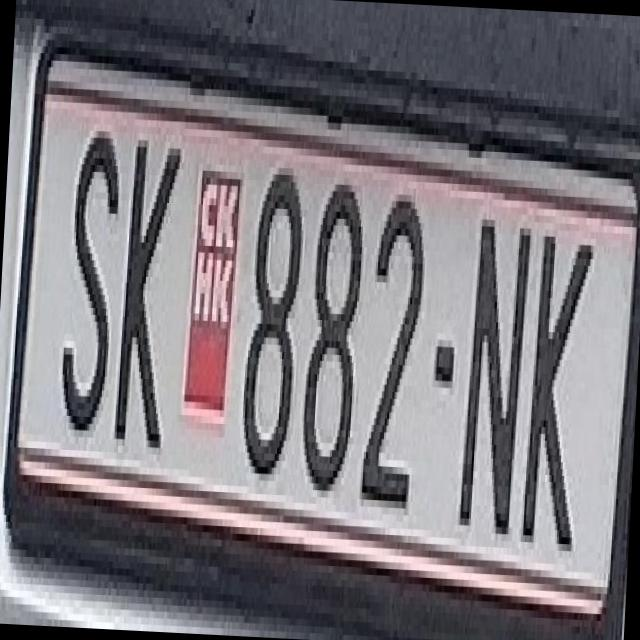2: (353, 187, 432, 502)
8: (233, 145, 310, 482), (292, 162, 368, 492)
K: (508, 208, 602, 546), (110, 112, 184, 449)
N: (447, 198, 541, 536)
S: (54, 110, 125, 432)
